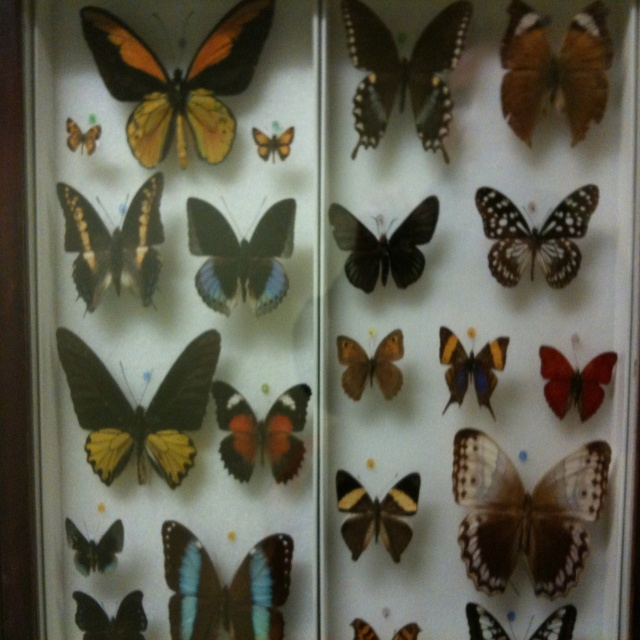Butterfly: (80, 0, 280, 168), (56, 327, 214, 490), (459, 434, 610, 592), (341, 0, 471, 170), (475, 169, 598, 313), (163, 519, 292, 639), (58, 171, 161, 317), (179, 194, 297, 318), (209, 382, 313, 485), (328, 192, 436, 290), (339, 468, 422, 565), (442, 326, 510, 422), (542, 347, 619, 422), (339, 331, 403, 408), (74, 589, 149, 639), (460, 605, 569, 639), (64, 516, 122, 575), (252, 122, 300, 166), (70, 115, 102, 169), (346, 622, 419, 639)
